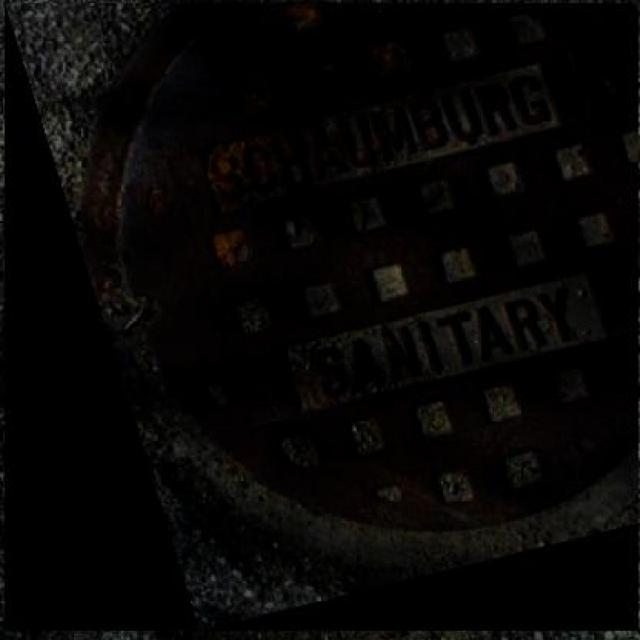Manhole: (4, 4, 638, 632)
